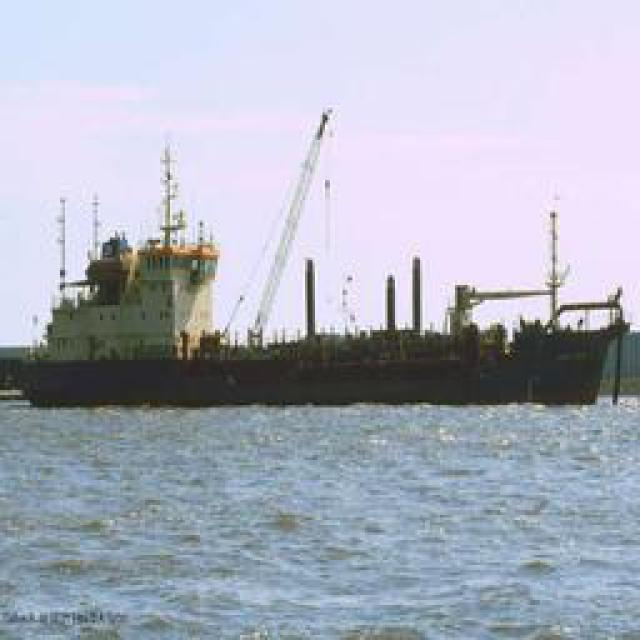Ship: (14, 97, 633, 421)
